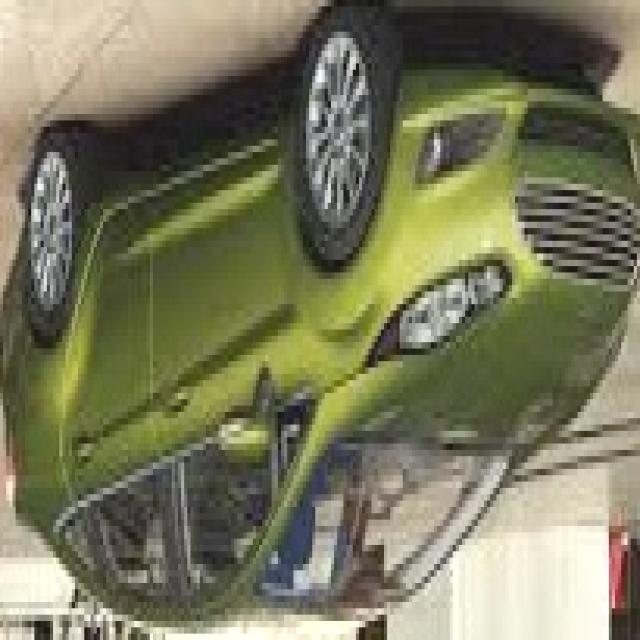green: (3, 0, 640, 628)
